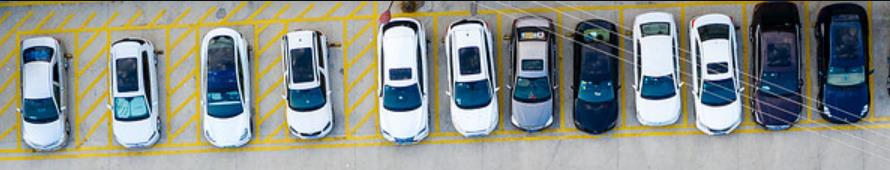car: (749, 1, 811, 137), (373, 16, 432, 146), (442, 21, 506, 140), (688, 9, 747, 137), (812, 1, 873, 124), (199, 25, 258, 149), (15, 34, 74, 155), (105, 37, 166, 150), (626, 13, 685, 129), (278, 26, 336, 142), (505, 12, 559, 135), (570, 15, 619, 135)
